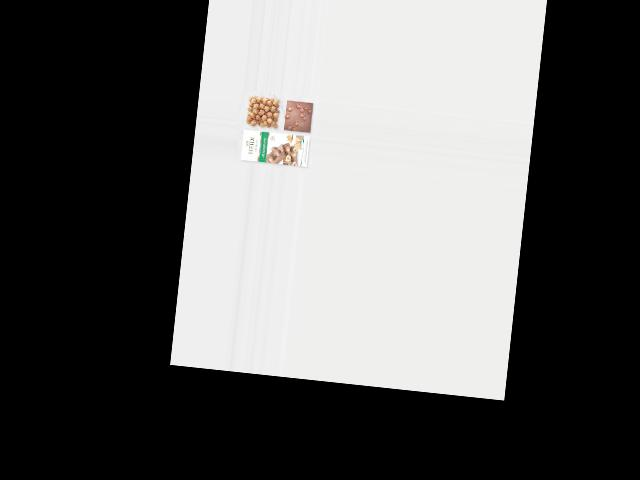chocolate: (283, 96, 315, 134)
